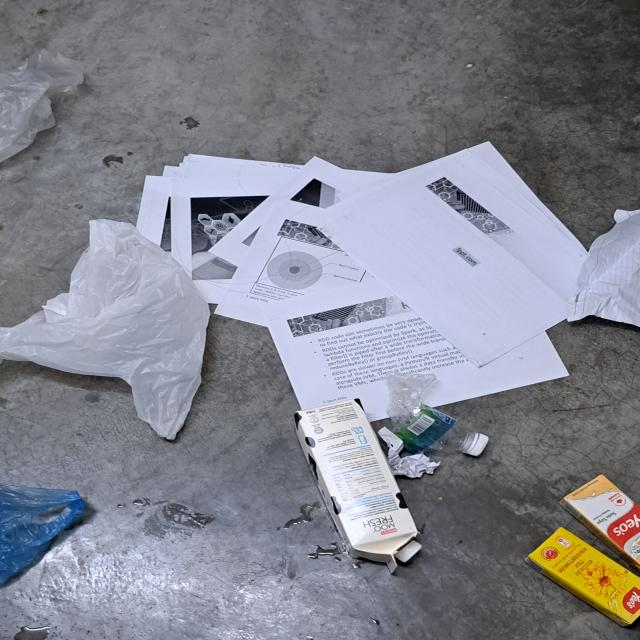drink carton: (294, 395, 424, 571), (528, 529, 640, 626), (561, 472, 640, 563)
paper: (137, 140, 640, 419), (375, 424, 441, 478)
plastic bag: (1, 222, 210, 442), (0, 41, 86, 171), (0, 483, 94, 590)
plastic bottle: (386, 367, 495, 460)
plastic bottle cap: (394, 538, 423, 565), (464, 430, 492, 455)
